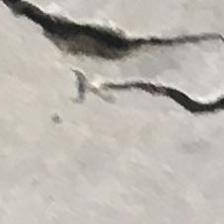Crack: (0, 0, 224, 136)
